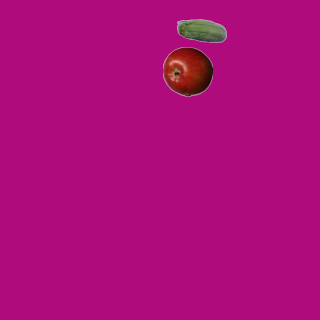Apple Braeburn: (162, 46, 212, 96)
Corn Husk: (176, 7, 226, 57)
